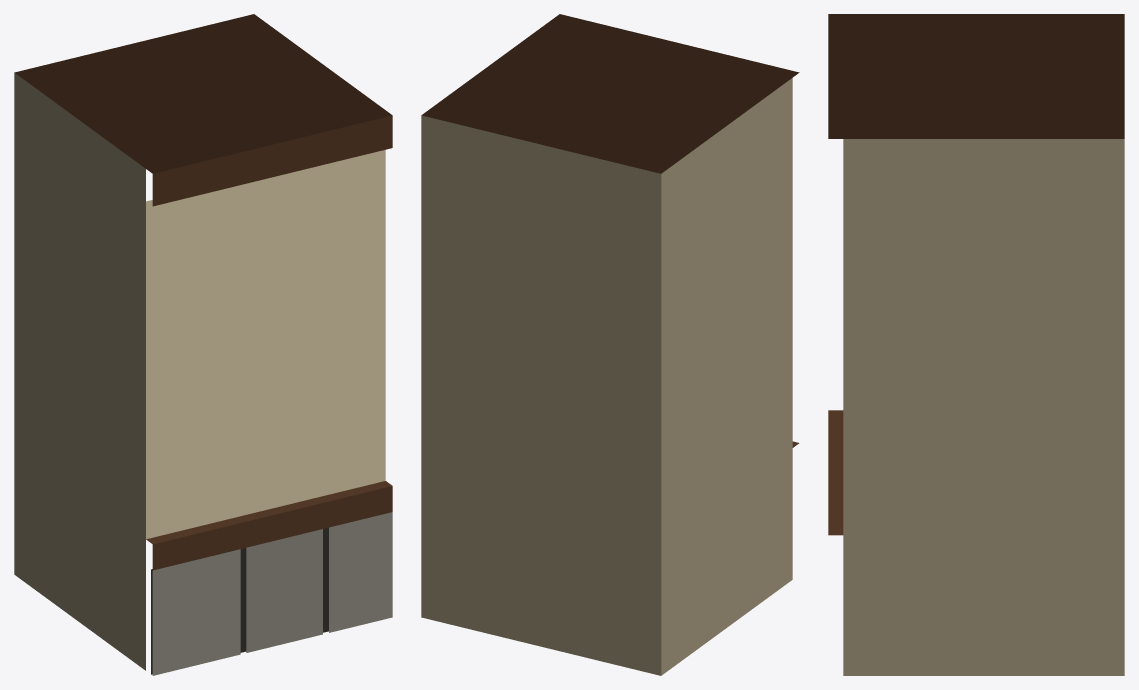
Rendered from tile_house_wall_13.glb.
3 renders of one model, left to right at view 1: azimuth 30°, elevation 25°; view 2: azimuth 150°, elevation 25°; view 3: azimuth 270°, elevation 25°, orthographic. The views are drawn at different scales.
Visible parts, largest first — view 1: tile_house_wall_13; view 2: tile_house_wall_13; view 3: tile_house_wall_13.
Part boxes in pixels (bbox=[...]): tile_house_wall_13: bbox=[14, 14, 392, 675]; tile_house_wall_13: bbox=[421, 14, 799, 675]; tile_house_wall_13: bbox=[828, 14, 1124, 675].
Bounding box in the file's own units: 1 × 2 × 1.
